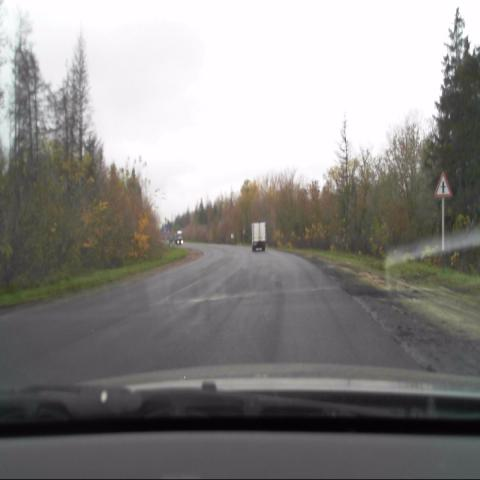2_3: (434, 171, 454, 201)
